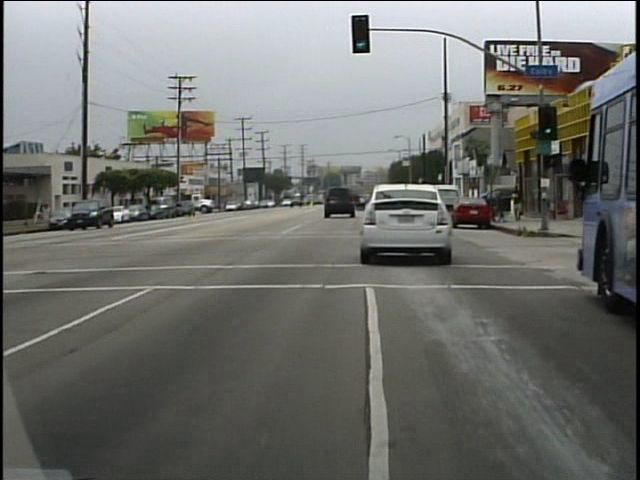person: (509, 180, 530, 229), (51, 201, 52, 229)
